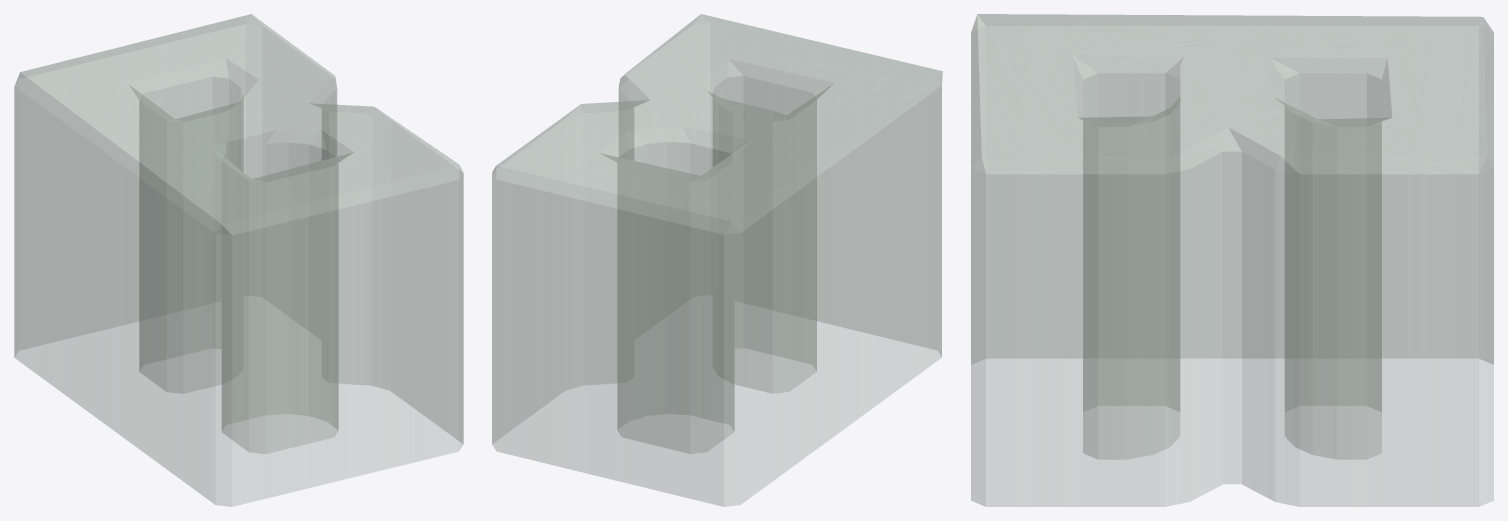
3 renders of one model, left to right at view 1: azimuth 30°, elevation 25°; view 2: azimuth 150°, elevation 25°; view 3: azimuth 270°, elevation 25°, orthographic. The views are drawn at different scales.
Visible parts, largest first — view 1: B; view 2: B; view 3: B.
Part boxes in pixels (left/top/right/bottom): B: left=14, top=14, right=463, bottom=506; B: left=492, top=14, right=942, bottom=506; B: left=971, top=14, right=1493, bottom=506.
Size of the model in its own units: 0.4041 by 0.44 by 0.6019.
1 material, 1 textured.
